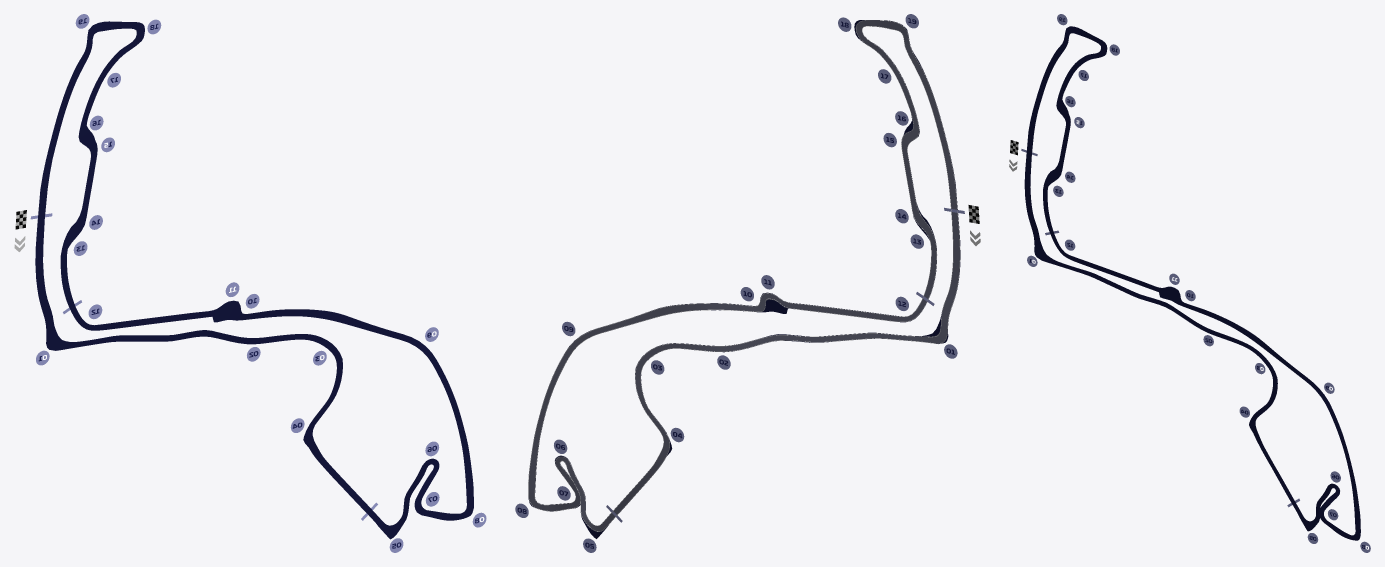
The model's file is monaco.glb.
3 views of the same model, side by side, from view 1: azimuth 30°, elevation 25°; view 2: azimuth 150°, elevation 25°; view 3: azimuth 330°, elevation 25° (orthographic). The views are drawn at different scales.
Visible parts, largest first — view 1: runoff; view 2: tracklimit, whiteline, runoff; view 3: runoff.
Part boxes in pixels (box(x1,y1,x2,y2)): runoff: box(35, 21, 473, 539); tracklimit: box(528, 20, 964, 531); whiteline: box(528, 20, 960, 531); runoff: box(528, 20, 960, 538); runoff: box(1024, 26, 1360, 540).
Size of the model in its own units: 817 by 1027 by 42.67.
